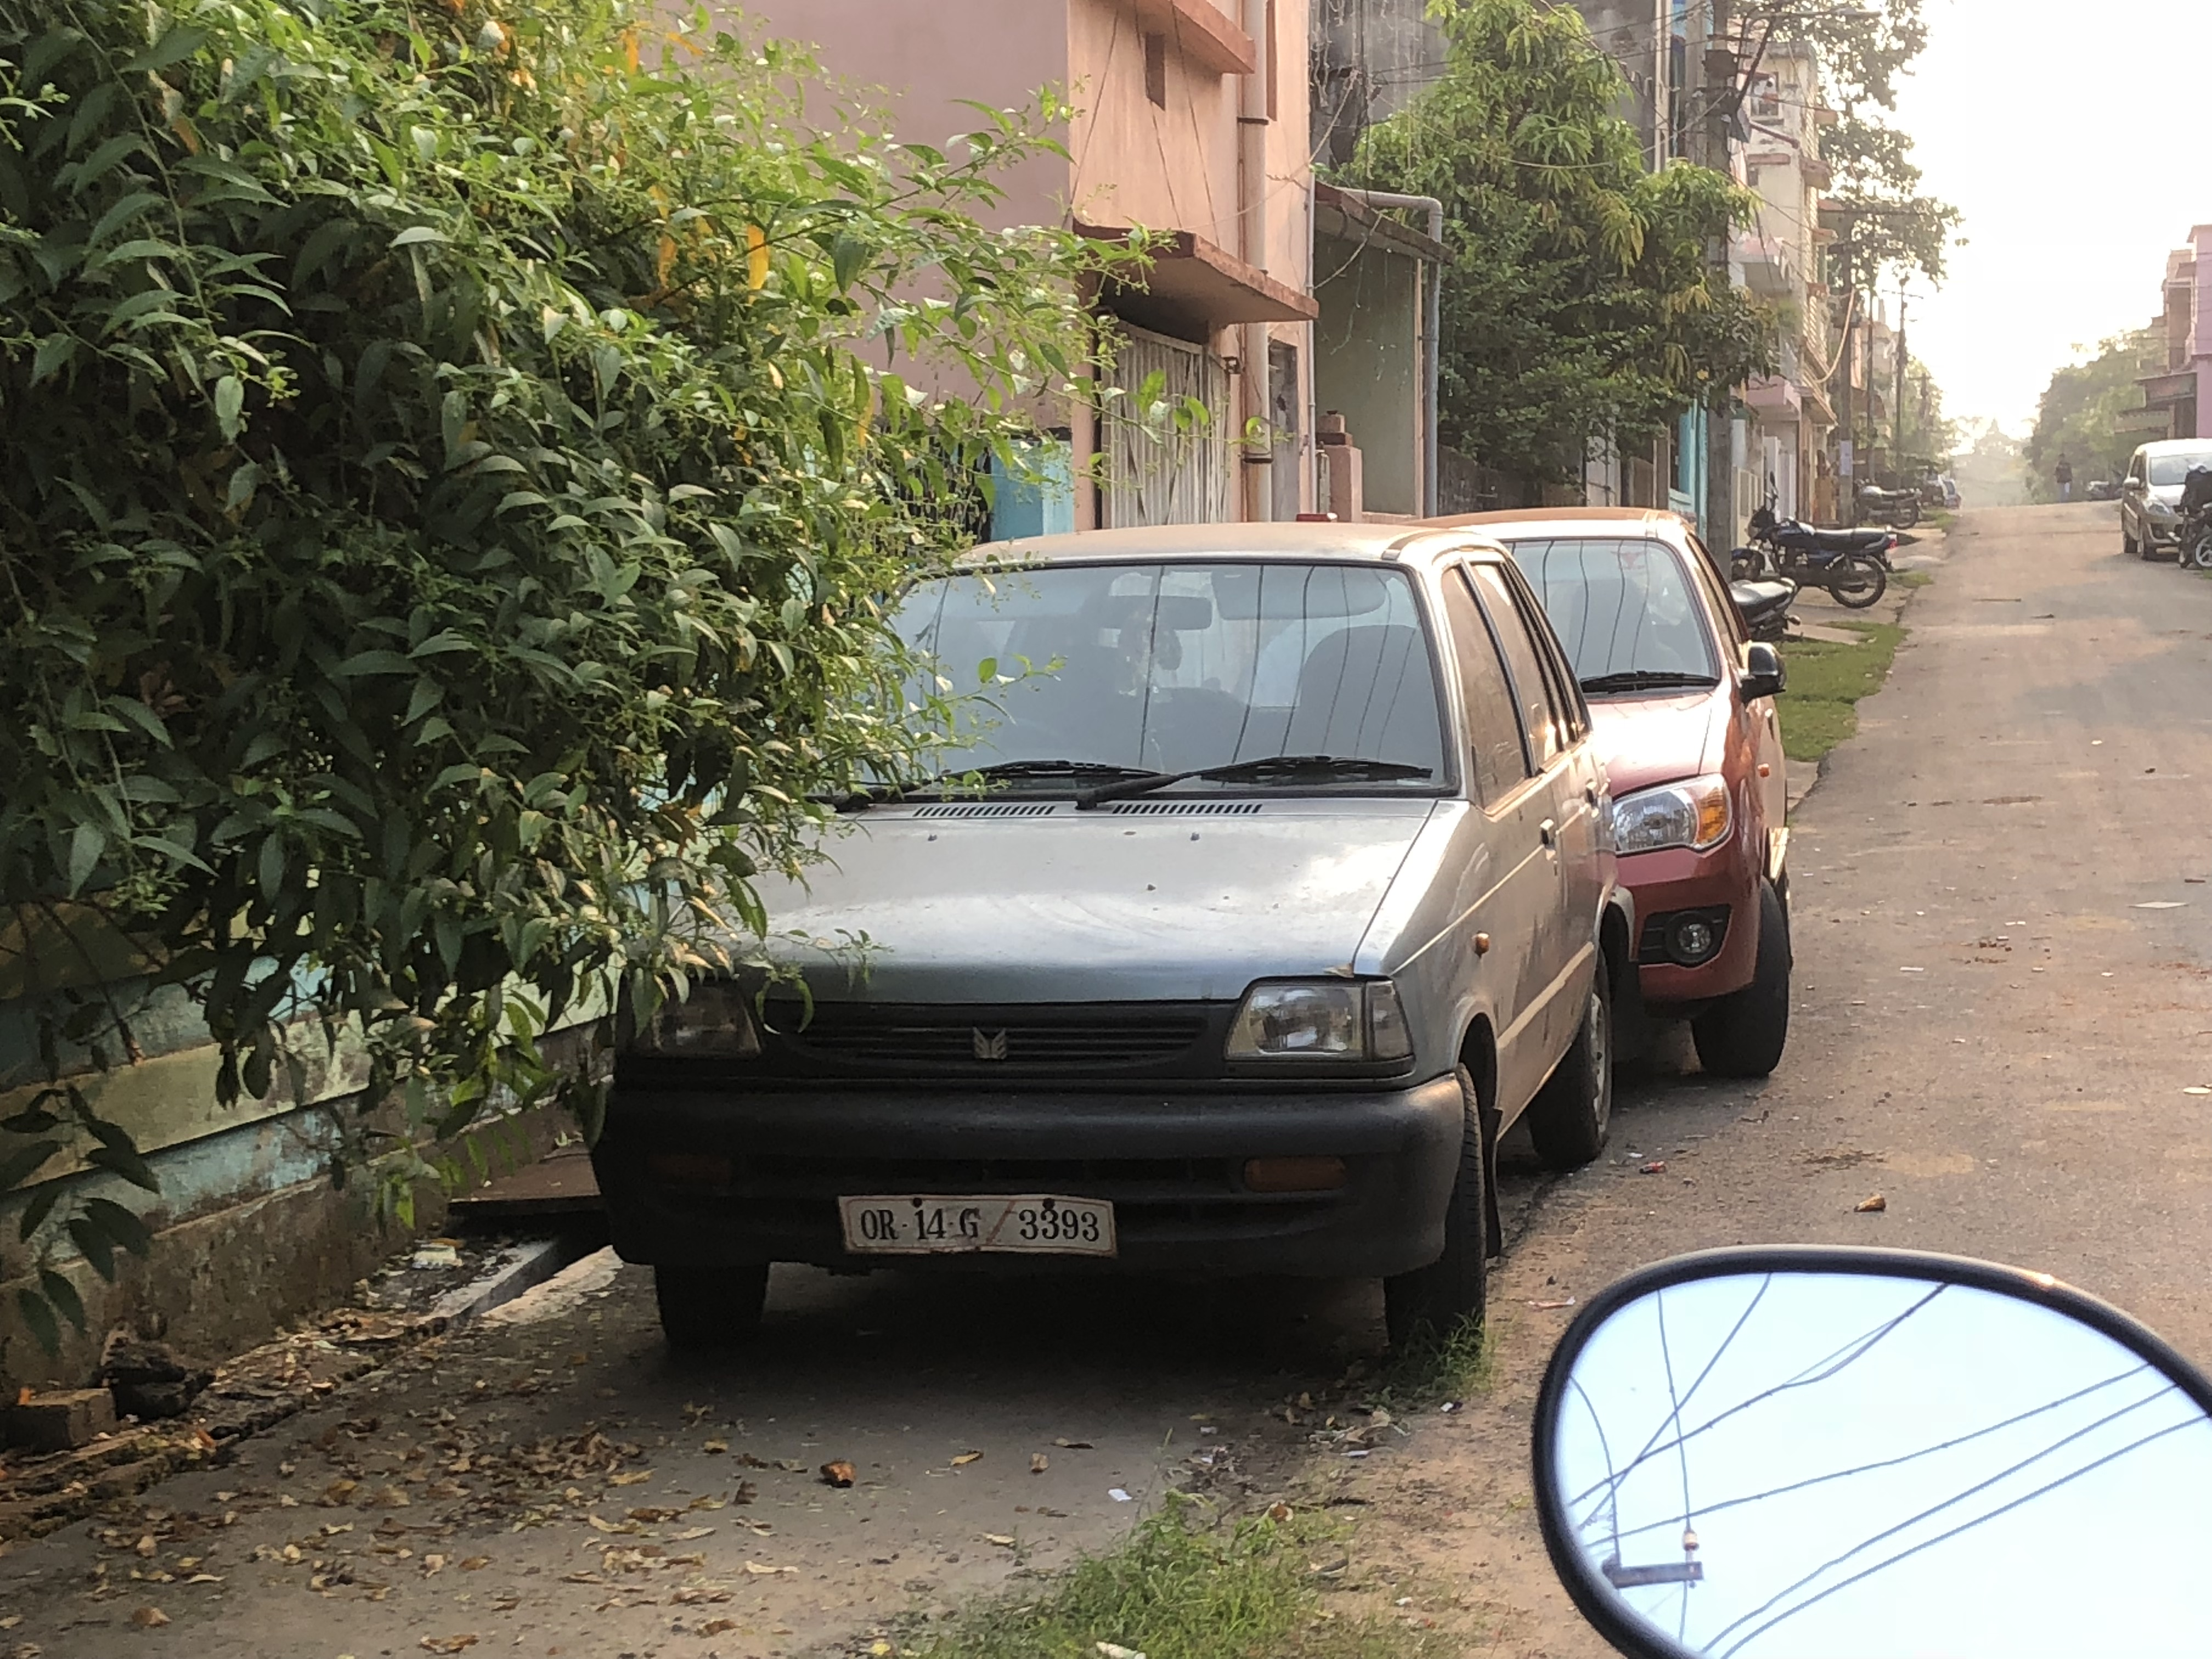licenseplate: (831, 1190, 1122, 1264)
